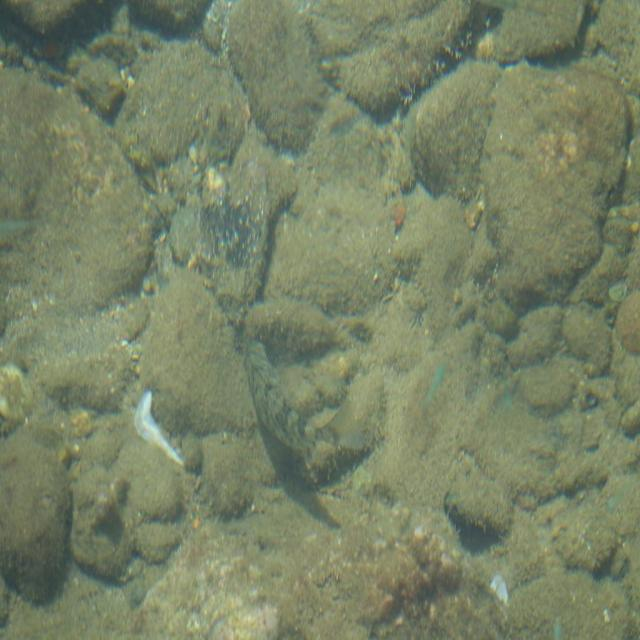Sokar Baligi: (233, 310, 372, 474)
